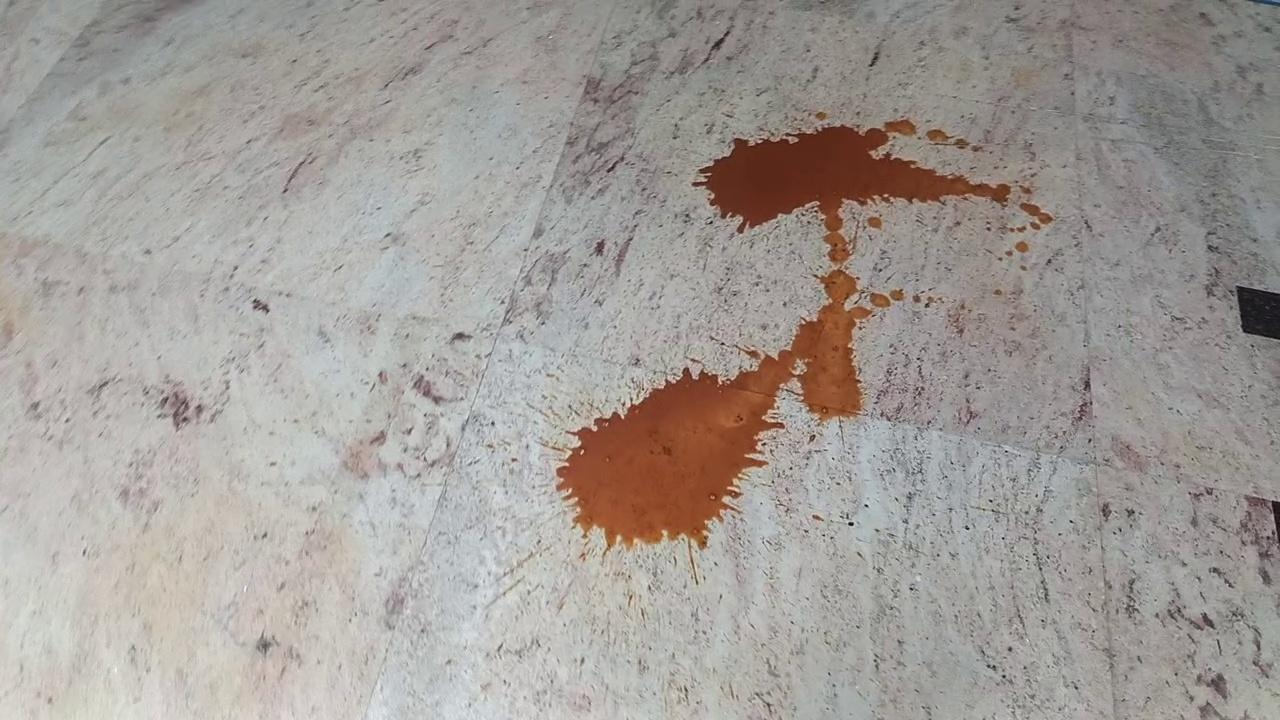dirty_floor: (558, 120, 1053, 557)
